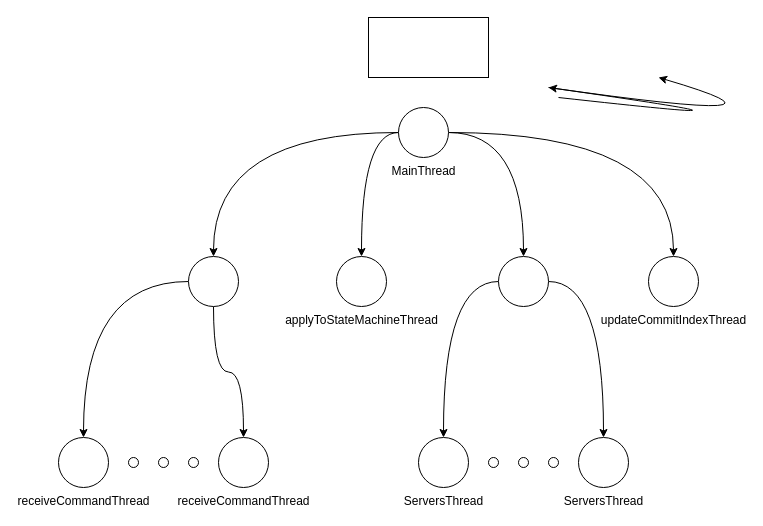
This 763x526 diagram has some shape labels left out. The centre of each missing label's shape, as x and y in pixels:
"acceptClientsThreads" goes at pixel 213 281.
"acceptServersThread" goes at pixel 523 281.
"ServerRaft" goes at pixel 428 47.
